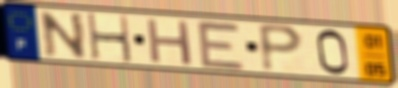0: (314, 28, 350, 76)
E: (194, 18, 249, 72)
H: (84, 12, 135, 65), (144, 16, 195, 67)
N: (37, 11, 90, 61)
P: (256, 21, 307, 75)
